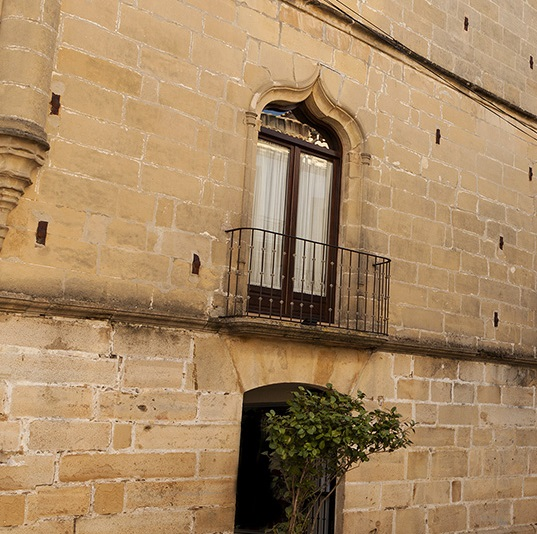arco-conopial: (248, 69, 369, 136)
